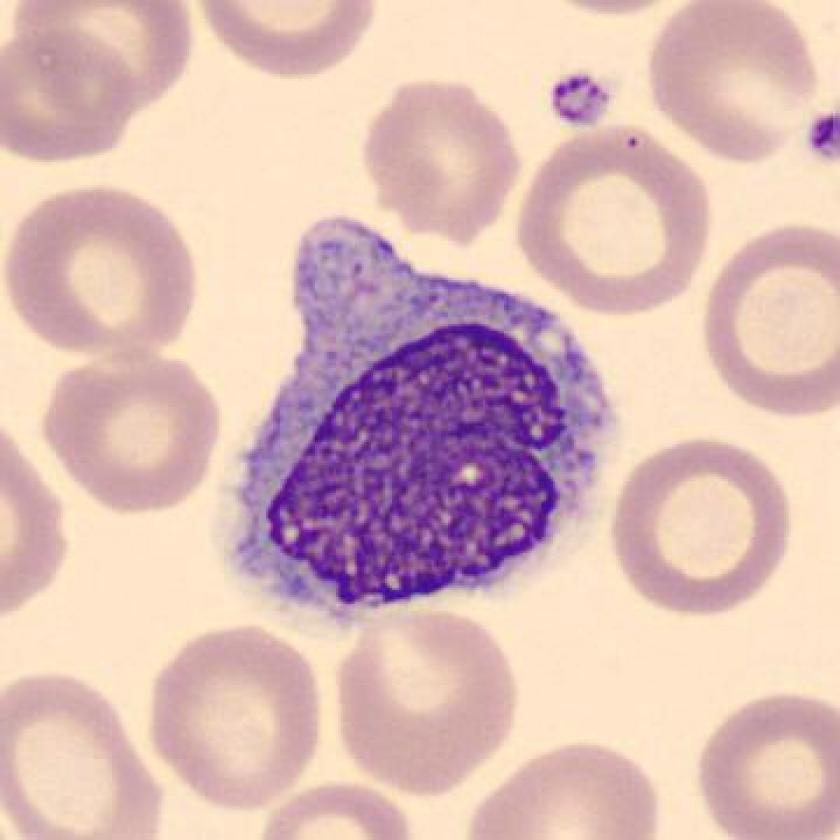monocyte: (207, 191, 641, 644)
